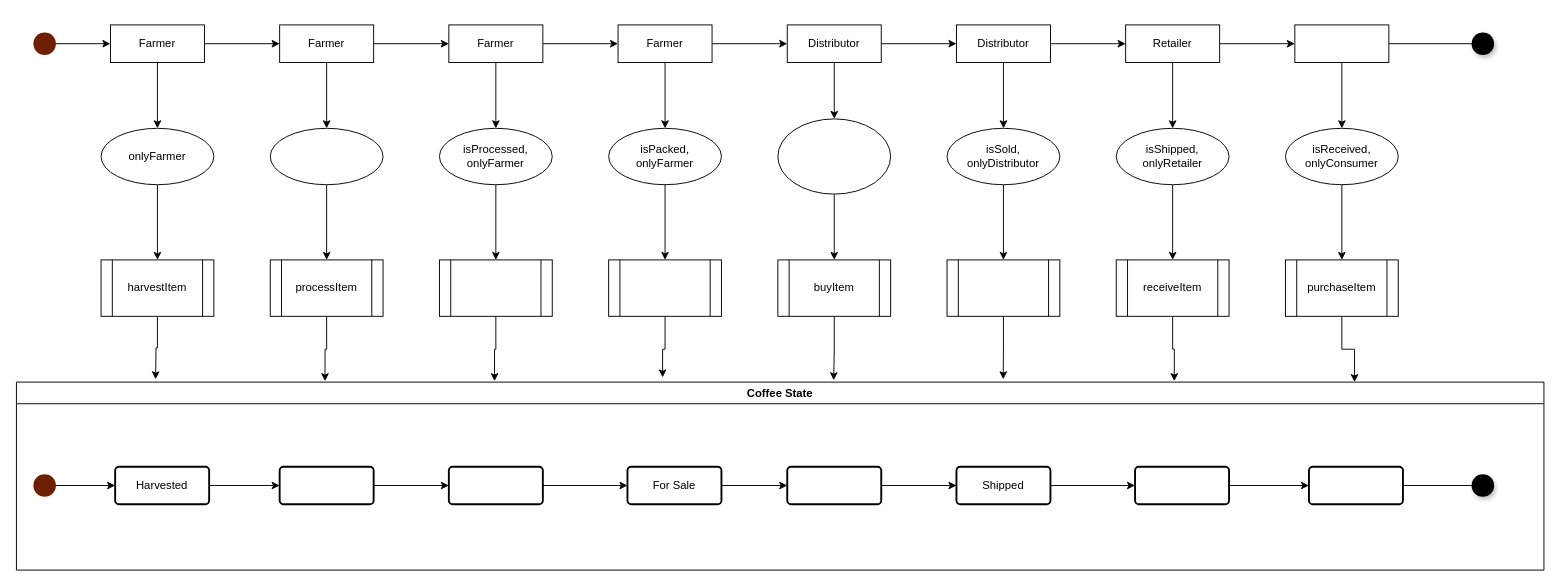
This 1560x587 diagram has some shape labels left out. The centre of each missing label's shape, as x and y in pixels:
"Consumer" goes at pixel 1341 43.
"isForSale, paidEnough, checkValue, onlyDistributor" goes at pixel 834 156.
"isHarvested, onlyFarmer" goes at pixel 326 156.
"Packed" goes at pixel 495 485.
"packItem" goes at pixel 495 287.
"Processed" goes at pixel 326 485.
"Purchased" goes at pixel 1355 485.
"Received" goes at pixel 1182 485.
"sellItem" goes at pixel 664 287.
"shipItem" goes at pixel 1003 287.
"Sold" goes at pixel 834 485.
